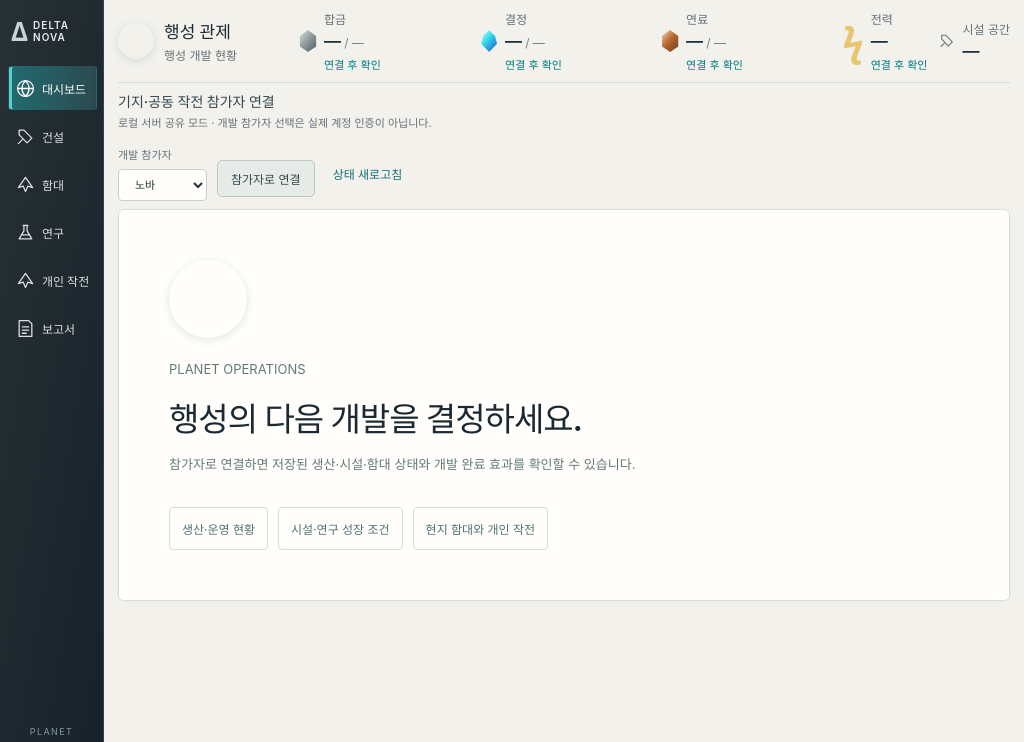
opens the chosen research inspector from the overview instead of leaving focus at the growth map
Click the button "참가자로 연결": point(266, 178) [217,160,315,197]
(page scrolled)
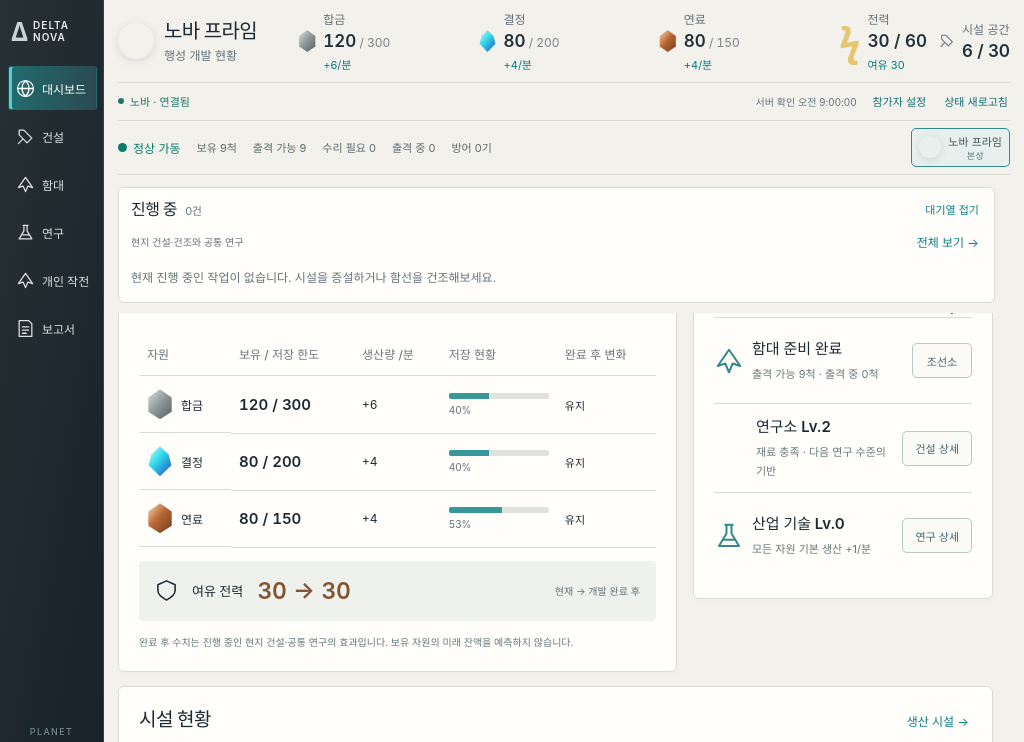
Check: the heading "노바 프라임" is shown, box [164,19,257,43]
Click the button "연구 상세": point(937, 536) [902,518,972,553]
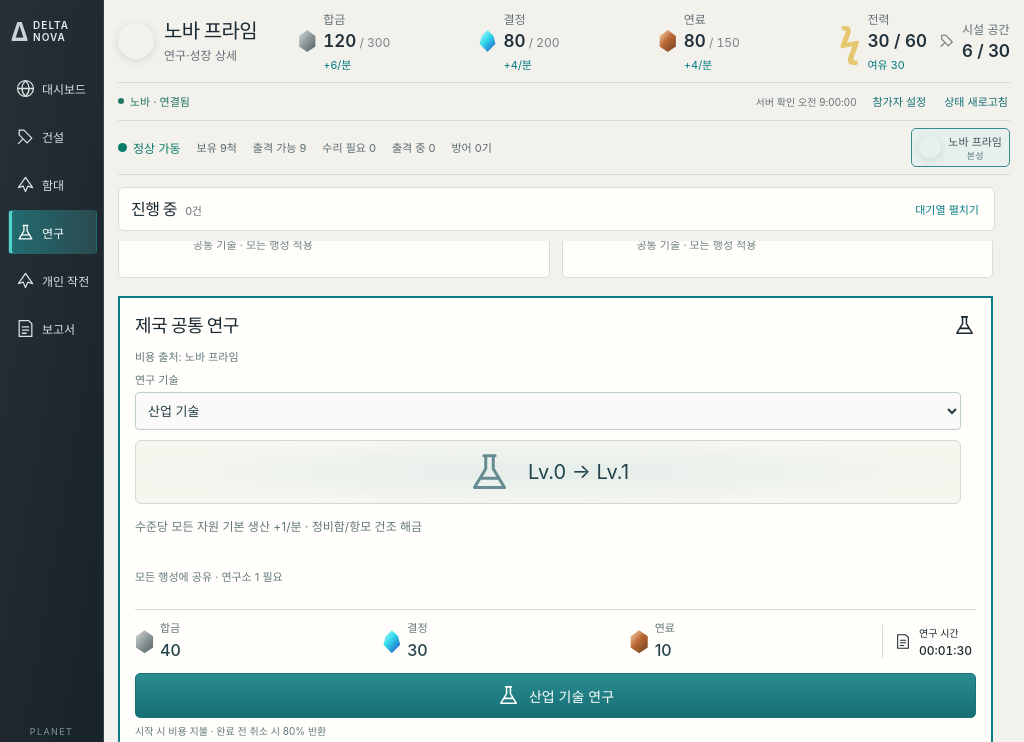
Check: the dropdown labelled "연구 기술" shows "산업 기술", box [135,392,961,430]
